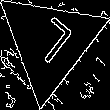L_SW: (23, 13, 76, 72)
